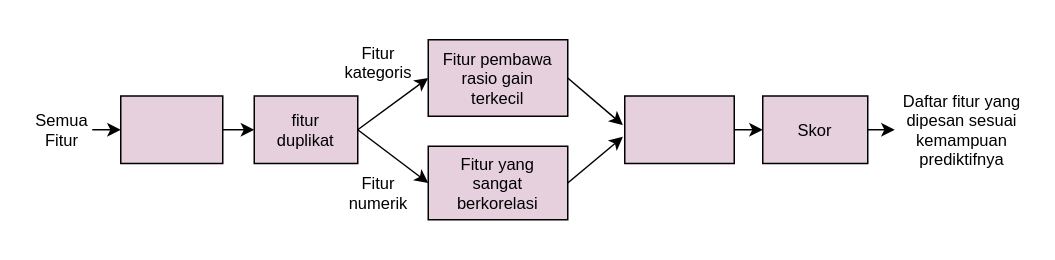
Image size: 1055x260. Some labels were removed from this diagram. Each missing label, with the centre of its shape:
fitur varian nol: point (171, 129)
Subset fitur acak: point (678, 129)
